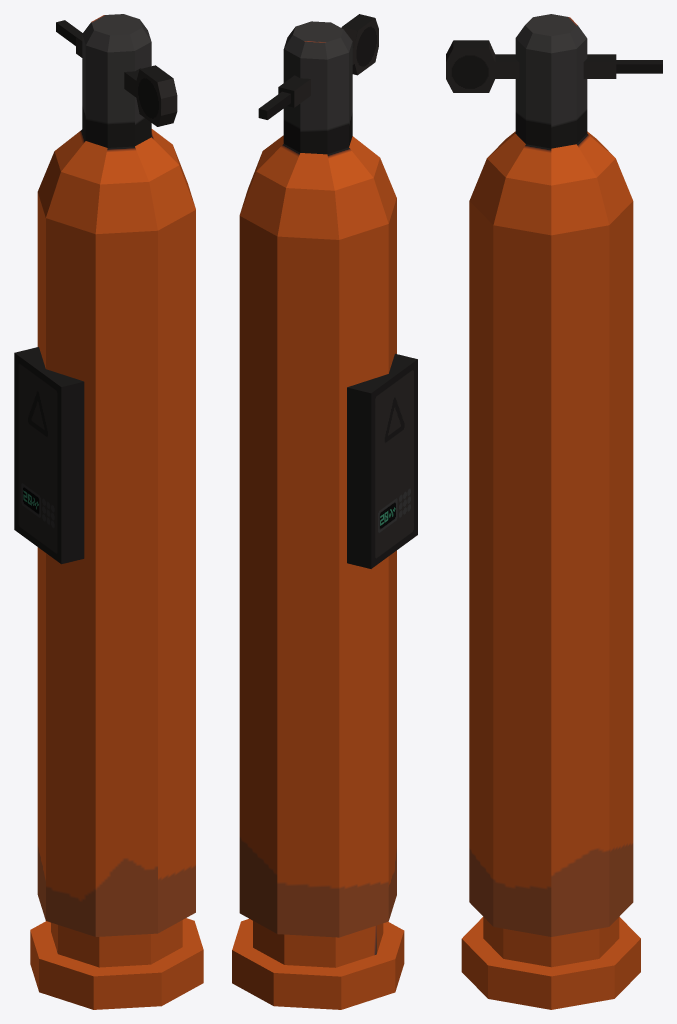
File: gasTank.obj
3 renders of one model, left to right at view 1: azimuth 30°, elevation 25°; view 2: azimuth 150°, elevation 25°; view 3: azimuth 270°, elevation 25°, orthographic.
Parts seen in each view (by area): view 1: Cylinder.001, Cube.003, Cube.002; view 2: Cylinder.001, Cube.003, Cube.002; view 3: Cylinder.001, Cube.002.
Boxes of the visible parts, x1=… form: Cylinder.001: x1=30, y1=14, x2=203, y2=1009; Cube.003: x1=14, y1=347, x2=84, y2=564; Cube.002: x1=56, y1=20, x2=177, y2=126; Cylinder.001: x1=232, y1=21, x2=404, y2=1009; Cube.003: x1=347, y1=353, x2=417, y2=568; Cube.002: x1=258, y1=14, x2=378, y2=119; Cylinder.001: x1=461, y1=14, x2=640, y2=1009; Cube.002: x1=446, y1=40, x2=662, y2=92.
Size of the model in its own units: 0.6135 by 3.57 by 0.7418.
3 materials, 3 textured.
